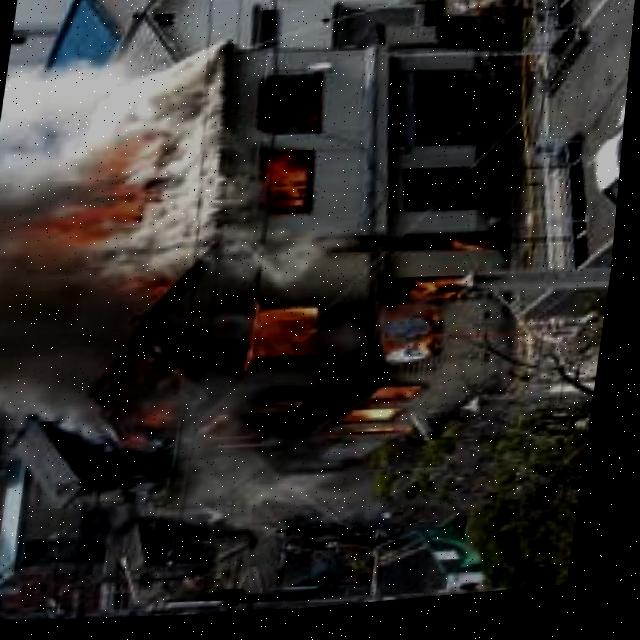Fire: (244, 296, 328, 387), (337, 384, 431, 444), (252, 149, 324, 224), (401, 280, 488, 320), (452, 239, 501, 264)
Smoke: (0, 33, 240, 458)
